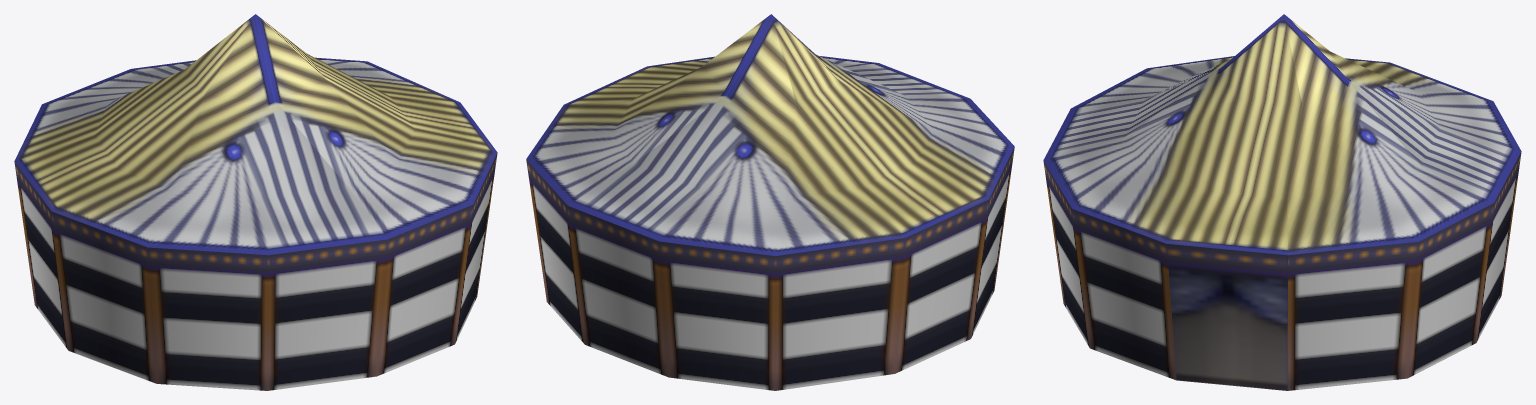
File: CircusTent_Small.fbx
The picture shows the model from 3 angles, left to right: view 1: azimuth 30°, elevation 25°; view 2: azimuth 150°, elevation 25°; view 3: azimuth 270°, elevation 25°; orthographic projection.
Parts seen in each view (by area): view 1: CircusTent4; view 2: CircusTent4; view 3: CircusTent4.
Boxes of the visible parts, x1=… form: CircusTent4: x1=14, y1=14, x2=497, y2=390; CircusTent4: x1=526, y1=14, x2=1014, y2=390; CircusTent4: x1=1043, y1=14, x2=1521, y2=390.
Size of the model in its own units: 12.55 by 8.16 by 12.42.
